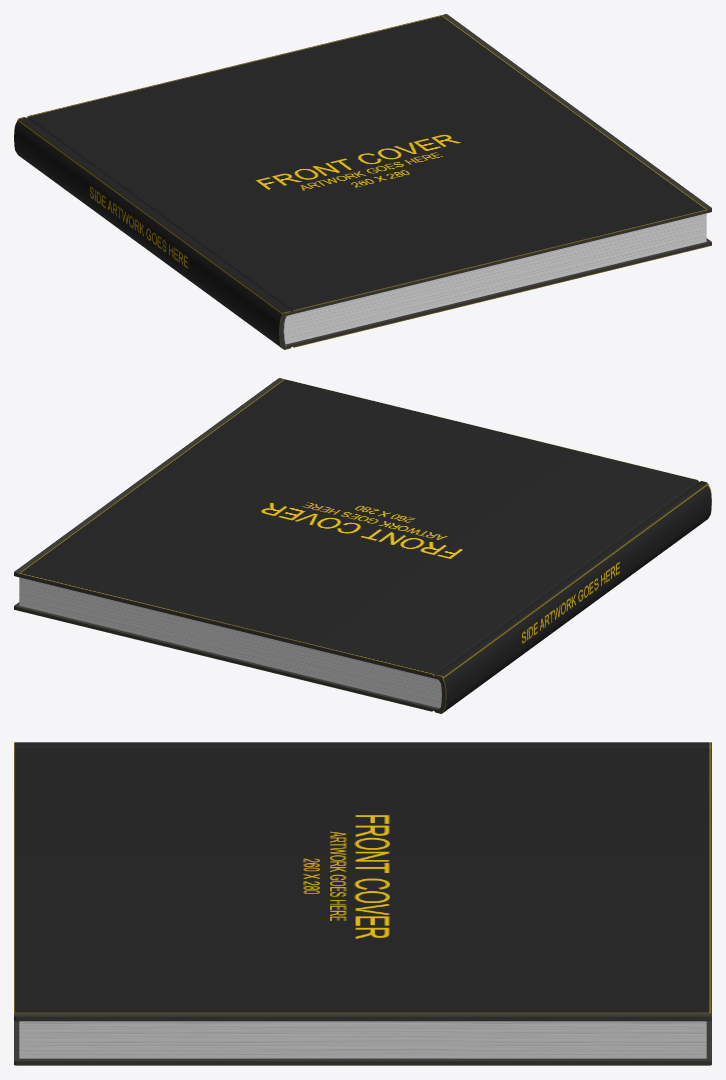
Rendered from Book280x260.glb.
3 views of the same model, one above another, from view 1: azimuth 30°, elevation 25°; view 2: azimuth 150°, elevation 25°; view 3: azimuth 270°, elevation 25° (orthographic). The views are drawn at different scales.
Parts seen in each view (by area): view 1: Book_260x280; view 2: Book_260x280; view 3: Book_260x280.
Boxes of the visible parts, x1=… form: Book_260x280: x1=14, y1=14, x2=711, y2=349; Book_260x280: x1=14, y1=378, x2=711, y2=713; Book_260x280: x1=14, y1=742, x2=711, y2=1065.
Size of the model in its own units: 0.2673 by 0.022 by 0.2843.
2 materials, 2 textured.
